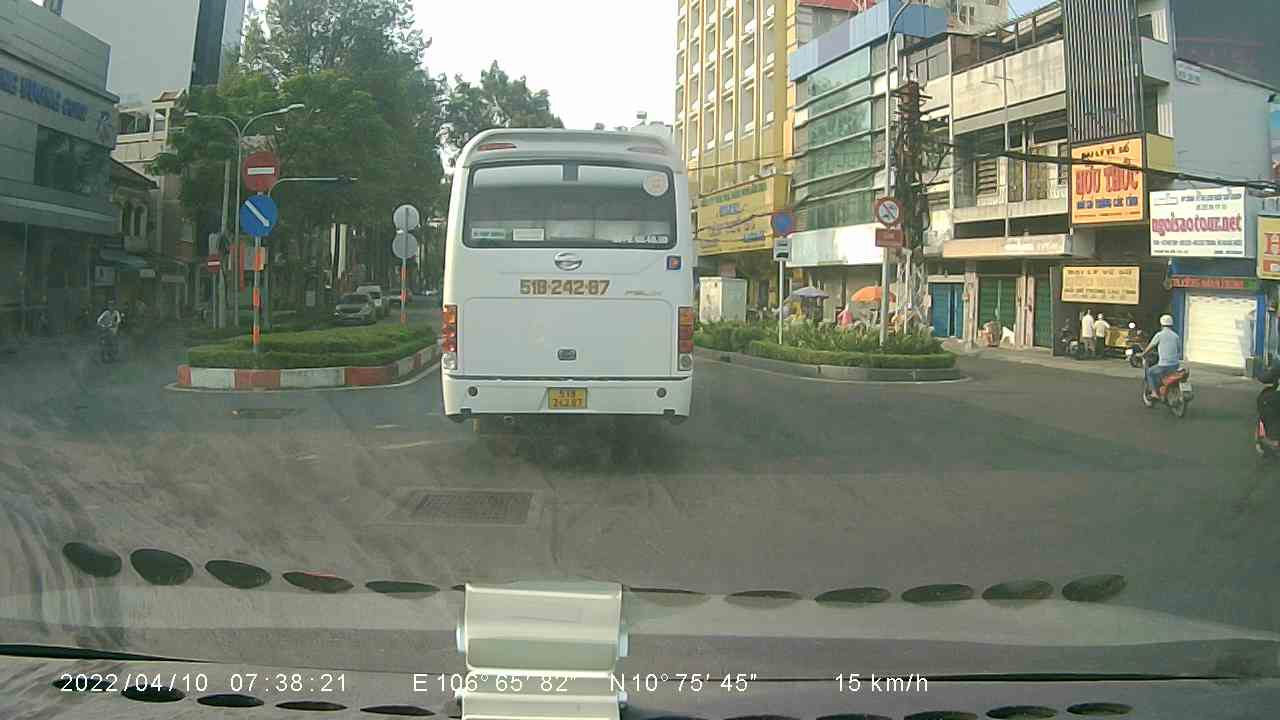Bien khac: (873, 195, 904, 227)
Cam di nguoc chieu: (238, 150, 279, 191)
Cam do xe: (770, 207, 798, 233)
Huong di phai re phai: (238, 195, 279, 236)
